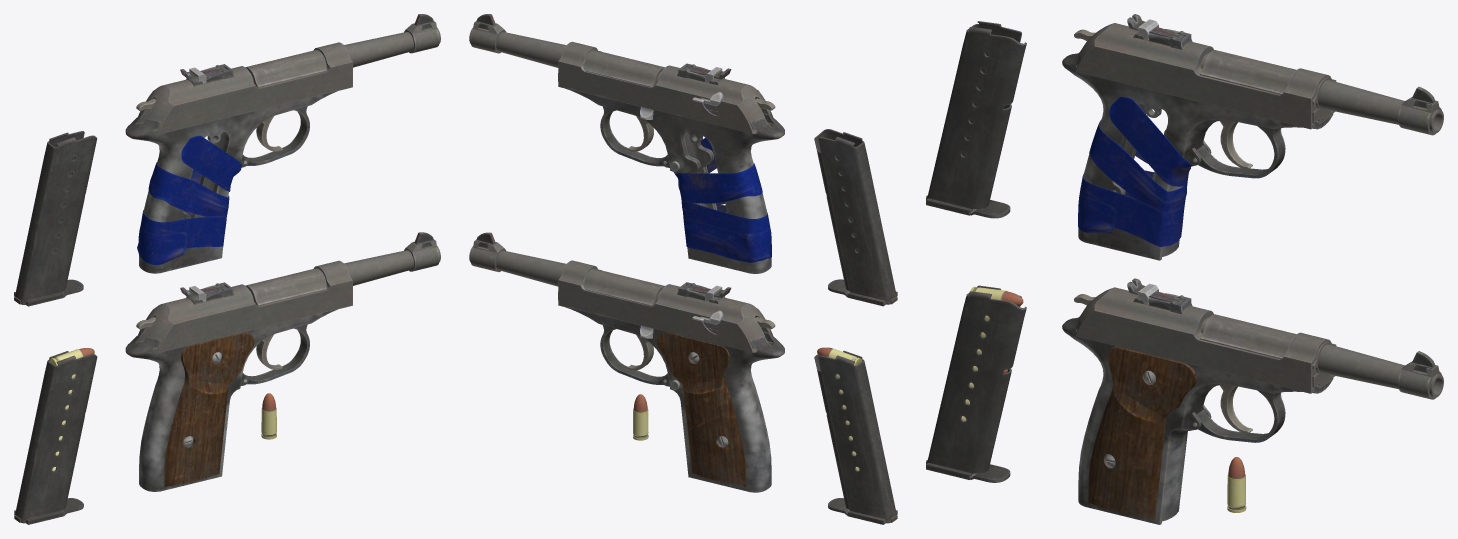
File: service_pistol.gltf
3 views of the same model, side by side, from view 1: azimuth 30°, elevation 25°; view 2: azimuth 150°, elevation 25°; view 3: azimuth 330°, elevation 25° (orthographic). The views are drawn at different scales.
Visible parts, largest first — view 1: service_pistol_pistol_b, service_pistol_pistol_a, service_pistol_magazine_loaded, service_pistol_magazine_empty, service_pistol_slide_a, service_pistol_slide_b, service_pistol_bullet; view 2: service_pistol_pistol_b, service_pistol_pistol_a, service_pistol_magazine_loaded, service_pistol_magazine_empty, service_pistol_slide_a, service_pistol_slide_b, service_pistol_bullet; view 3: service_pistol_pistol_a, service_pistol_pistol_b, service_pistol_magazine_loaded, service_pistol_magazine_empty, service_pistol_slide_b, service_pistol_slide_a, service_pistol_bullet, service_pistol_trigger_b, service_pistol_trigger_a.
Part boxes in pixels (box(x1,y1,x2,y2)): service_pistol_pistol_b: box(125, 14, 440, 273); service_pistol_pistol_a: box(125, 232, 440, 491); service_pistol_magazine_loaded: box(14, 348, 97, 524); service_pistol_magazine_empty: box(14, 131, 97, 306); service_pistol_slide_a: box(141, 260, 352, 352); service_pistol_slide_b: box(141, 42, 352, 134); service_pistol_bullet: box(261, 393, 276, 439); service_pistol_pistol_b: box(469, 14, 784, 273); service_pistol_pistol_a: box(469, 232, 784, 492); service_pistol_magazine_loaded: box(814, 347, 897, 524); service_pistol_magazine_empty: box(814, 129, 897, 306); service_pistol_slide_a: box(558, 260, 772, 352); service_pistol_slide_b: box(558, 41, 772, 133); service_pistol_bullet: box(633, 394, 648, 440); service_pistol_pistol_a: box(1062, 314, 1443, 524); service_pistol_pistol_b: box(1062, 50, 1443, 260); service_pistol_magazine_loaded: box(926, 285, 1026, 482); service_pistol_magazine_empty: box(926, 21, 1026, 218); service_pistol_slide_b: box(1075, 14, 1336, 129); service_pistol_slide_a: box(1075, 278, 1336, 393); service_pistol_bullet: box(1227, 457, 1246, 512); service_pistol_trigger_b: box(1220, 120, 1252, 169); service_pistol_trigger_a: box(1220, 384, 1252, 433).
Size of the model in its own units: 0.3016 by 0.2807 by 0.0318.
Materials: 1 (1 with a texture image).
